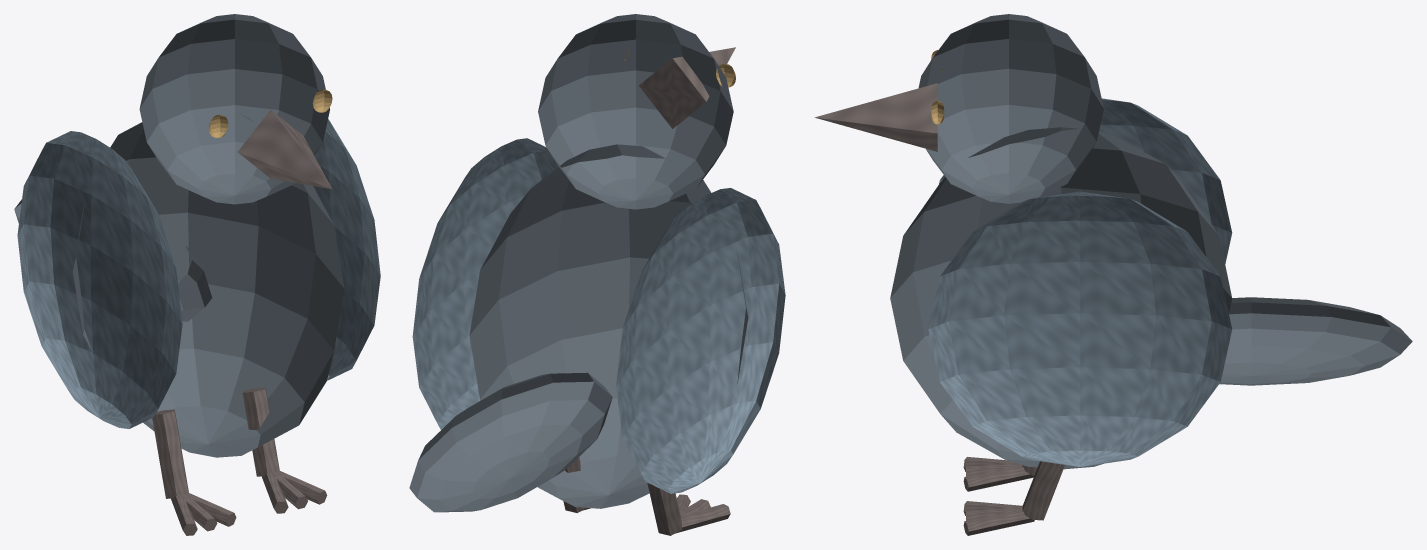
The model's file is lantern-watch-perched-courtyard-crow__83.glb.
3 renders of one model, left to right at view 1: azimuth 30°, elevation 25°; view 2: azimuth 150°, elevation 25°; view 3: azimuth 270°, elevation 25°, orthographic. The views are drawn at different scales.
Visible parts, largest first — view 1: lantern-watch-perched-crow; view 2: lantern-watch-perched-crow; view 3: lantern-watch-perched-crow.
Part boxes in pixels (x1,y1,x2,y2): lantern-watch-perched-crow: [14, 14, 380, 535]; lantern-watch-perched-crow: [409, 14, 785, 535]; lantern-watch-perched-crow: [814, 14, 1412, 535].
Bounding box in the file's own units: 0.32 × 0.5569 × 0.63.
4 materials, 3 textured.
